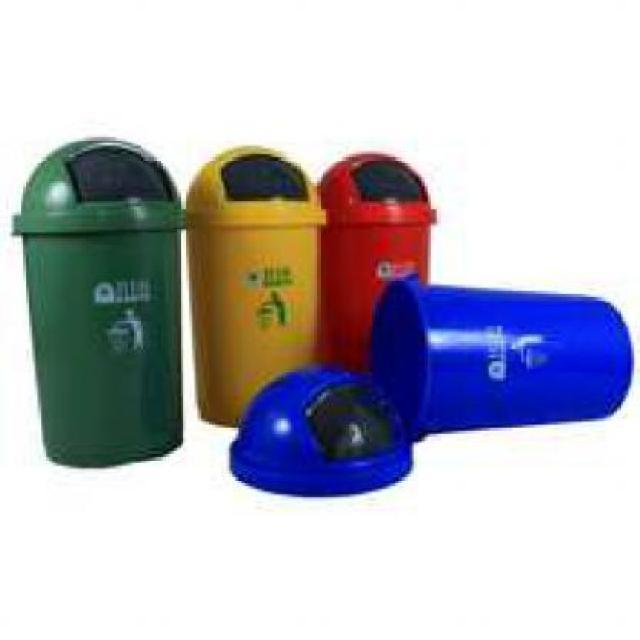garbage container: (4, 132, 187, 488), (347, 272, 635, 452), (181, 135, 318, 423), (321, 146, 432, 374)
